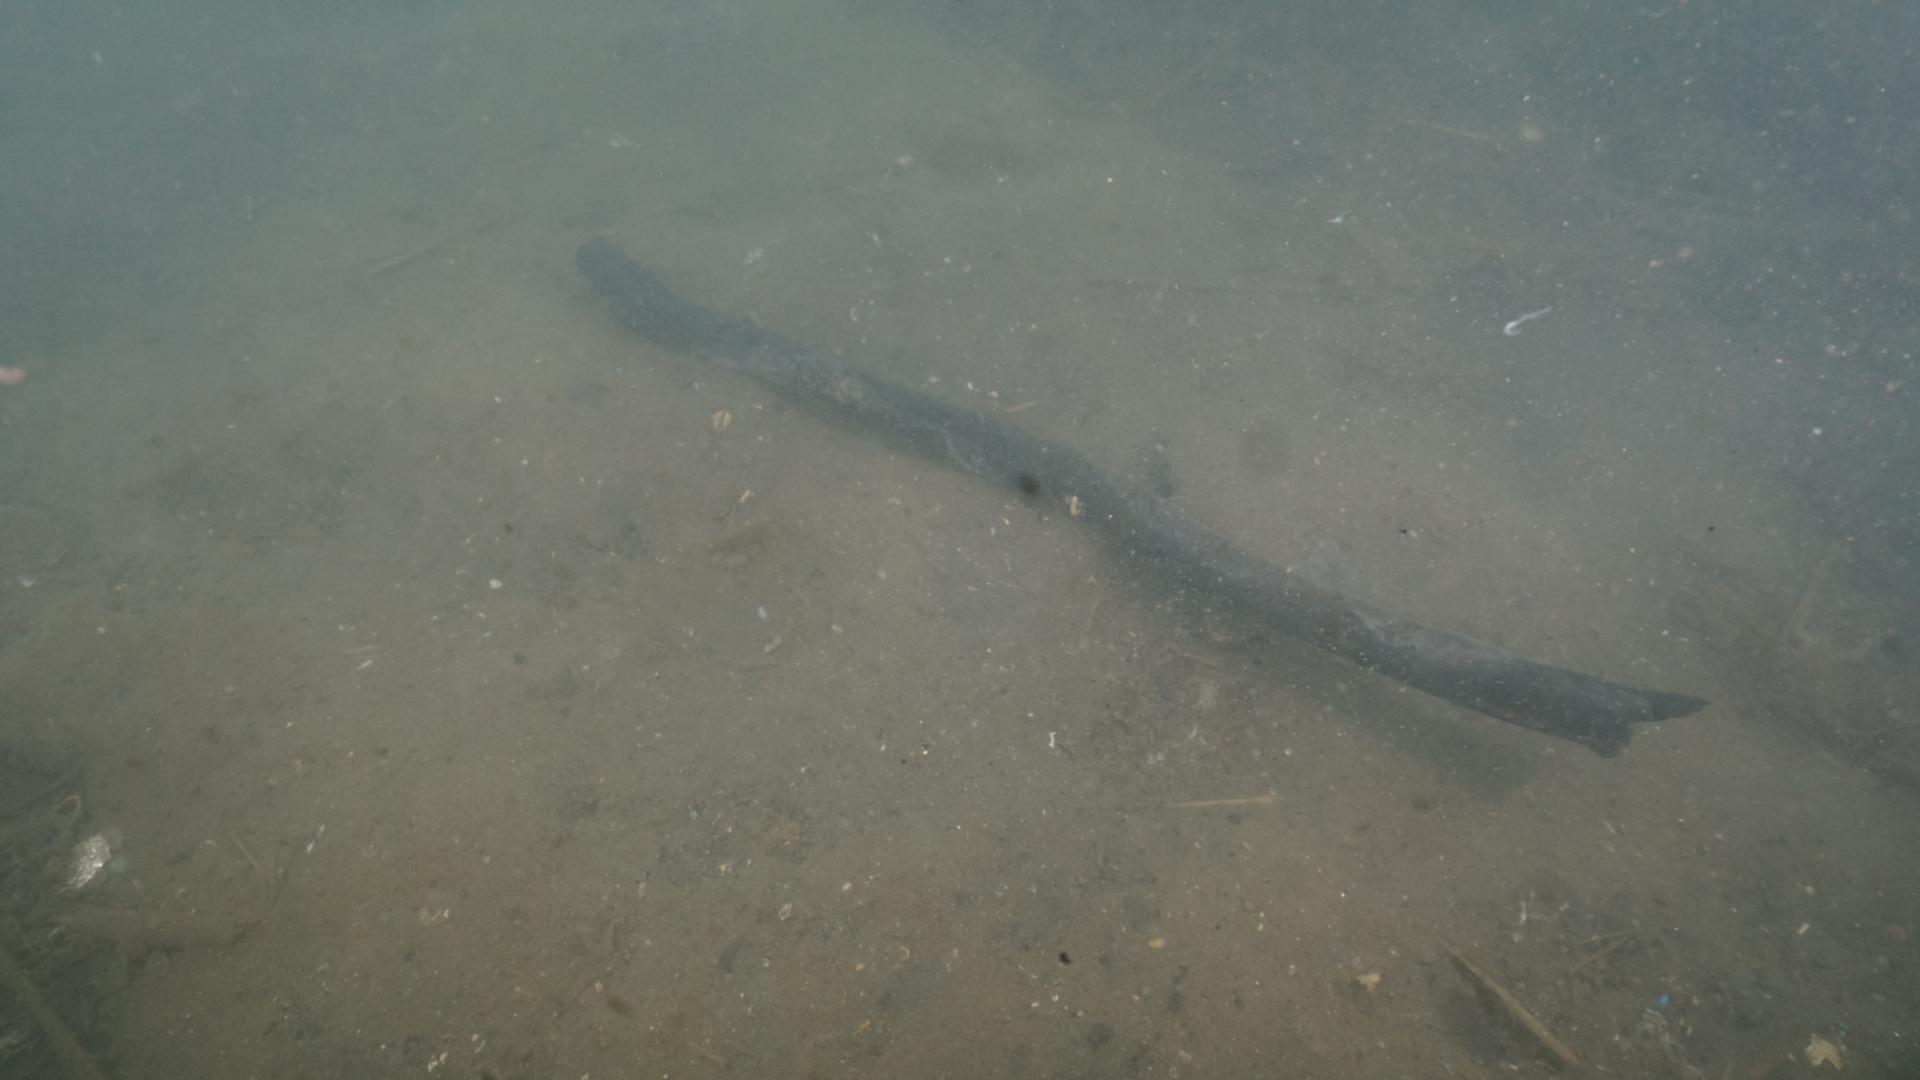wood: (568, 231, 1714, 758)
